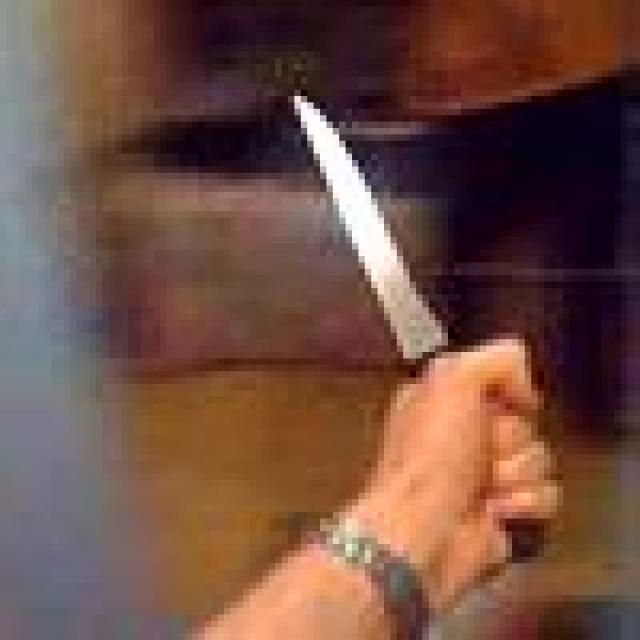knife: (291, 92, 430, 374)
